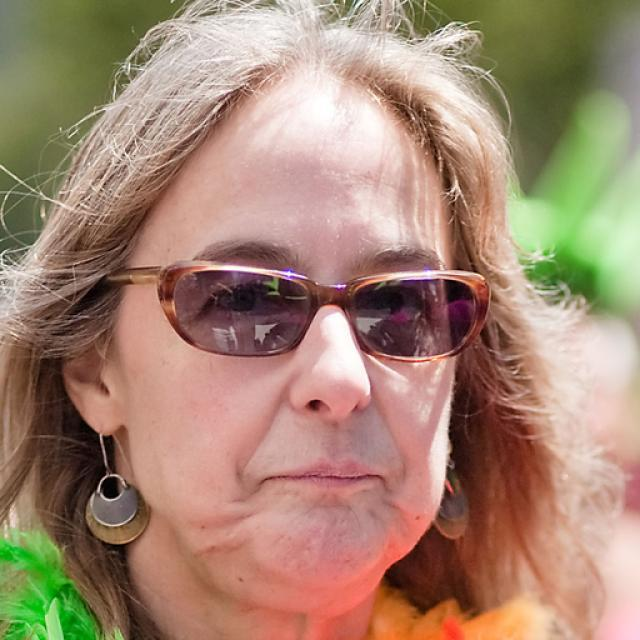neutral: (127, 59, 455, 618)
